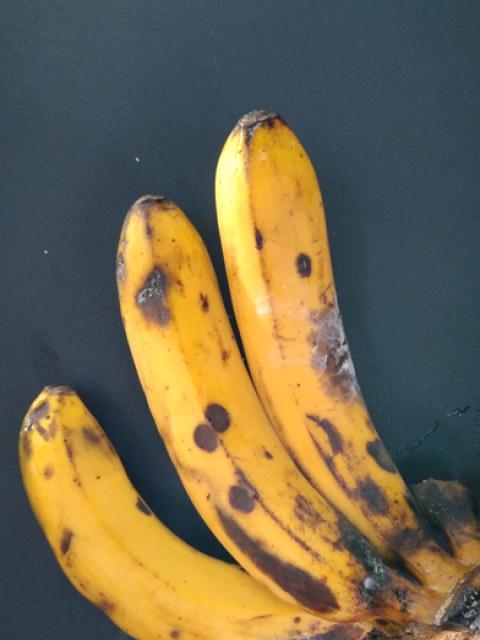overripe: (122, 198, 389, 635), (220, 98, 412, 599), (24, 383, 315, 634)
